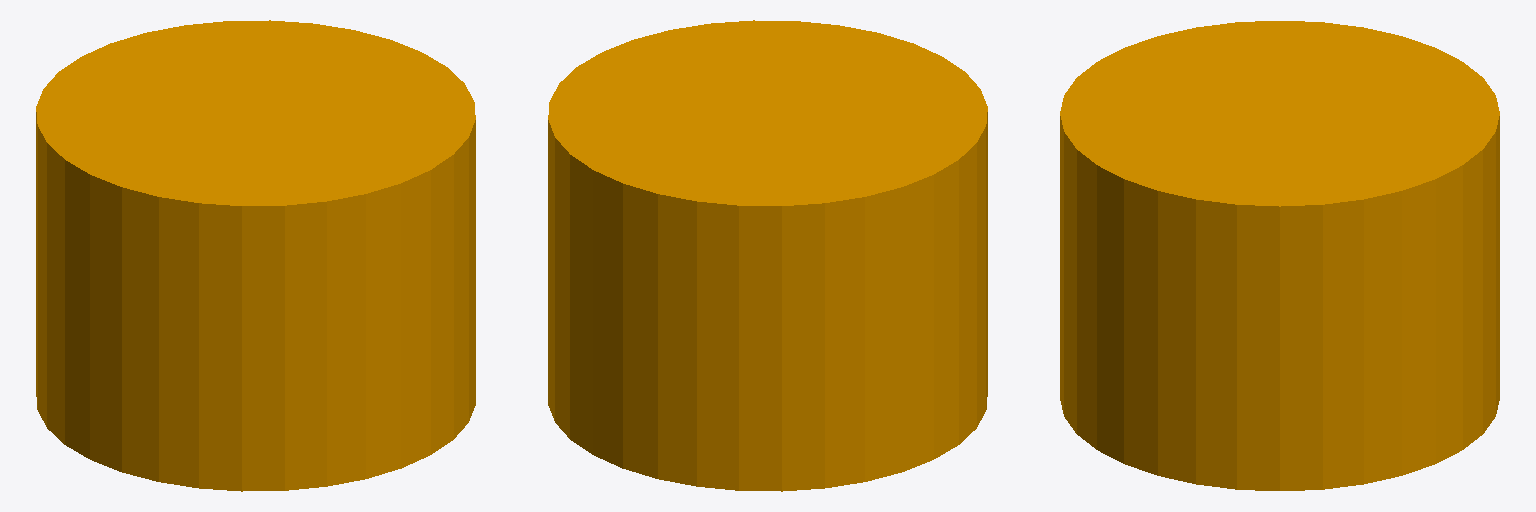
URDF robot description (cylinder):
<robot name="cylinder">
    <link name="cylinder">
      <inertial>
        <origin xyz="0 0 0"/>
        <mass value="0.1"/>
        <inertia ixx="0.00058" ixy="0.0" ixz="0.0" iyy="0.00058" iyz="0.0" izz="0.00019" />
      </inertial>
      <collision>
        <geometry>
          <cylinder radius="0.035000" length="0.05"/>
        </geometry>
      </collision>
      <visual>
        <origin xyz="0 0 0"/>
        <geometry>
          <cylinder radius="0.035000" length="0.05"/>
        </geometry>
      </visual>
    </link>
  <gazebo reference="cylinder">
    <material>Gazebo/Pink</material>
    <mu1>100</mu1>
    <mu2>100</mu2>
  </gazebo>
 </robot>

--- Render facts (derived) ---
3 views of the same robot in one strip: view 1: azimuth 30°, elevation 25°; view 2: azimuth 150°, elevation 25°; view 3: azimuth 270°, elevation 25° (orthographic).
Model cylinder with 1 links and 0 joints (none), rooted at cylinder, posed all joints at 0.
Links seen in each view (by area): view 1: cylinder; view 2: cylinder; view 3: cylinder.
Link boxes in pixels (x1,y1,x2,y2): cylinder: [36, 20, 475, 491]; cylinder: [548, 20, 987, 491]; cylinder: [1060, 21, 1499, 490].
Bounding box of the posed robot: 0.07 × 0.07 × 0.05 m (x, y, z).
Geometry: primitives only (box / cylinder / sphere), no mesh files.
